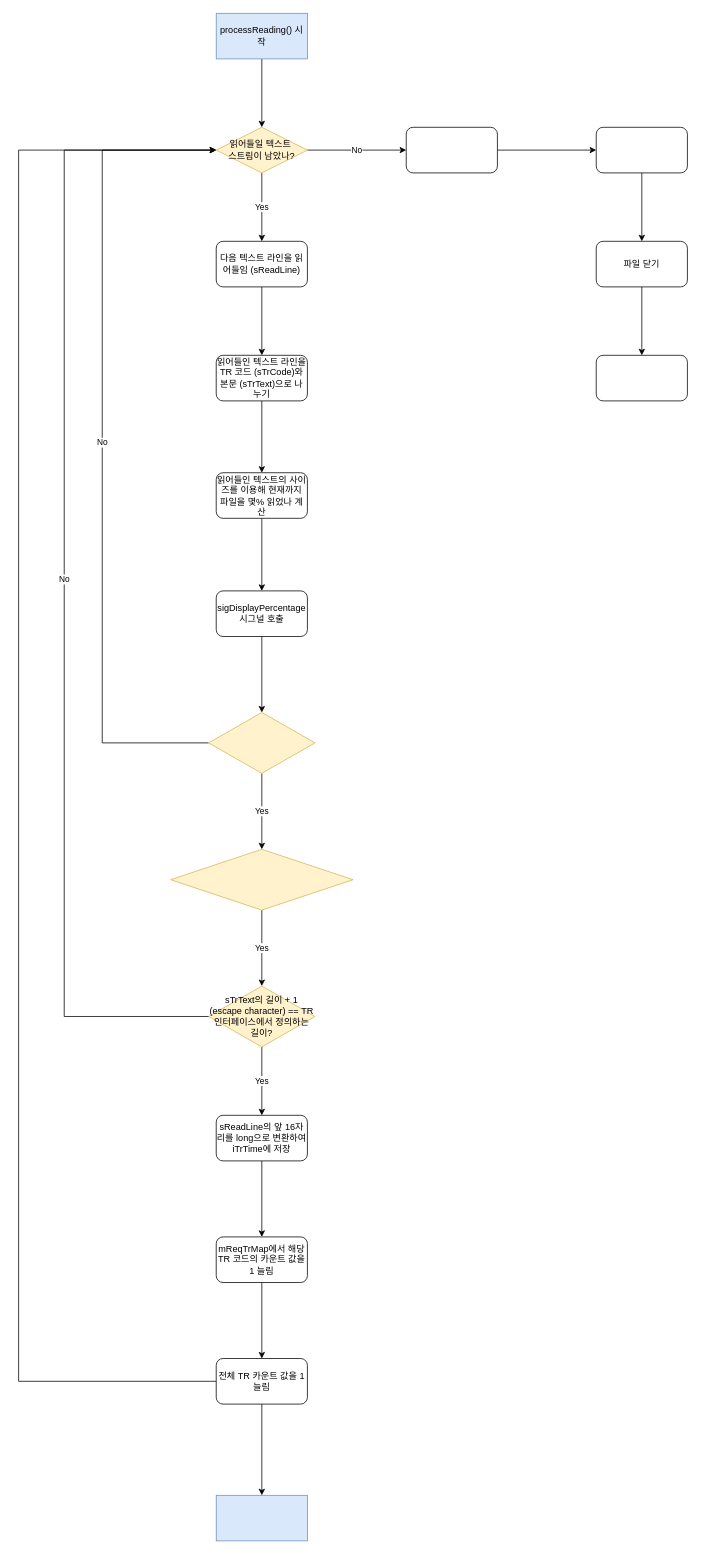
Some shapes in this 701 by 1554 pixel diagram are drawn without their labels. The shapes that lost their labels are listed below. From the top down, each one's box as (x1, y1, x2, y2) in pixels, then its label:
(405, 127, 497, 173): printRenewStat()
(595, 127, 687, 173): 스레드 상태를 Stopped로 변경
(595, 355, 687, 401): sigAnalysisDone() 시그널 호출
(208, 712, 315, 773): sTrCode가 TR 목록에 포함되어 있나?
(170, 849, 353, 910): sReadLine의 길이가 16자리 이상 되고, 17번째 자리의 문자가 콜론인가?
(215, 1495, 307, 1541): processReading() 종료
